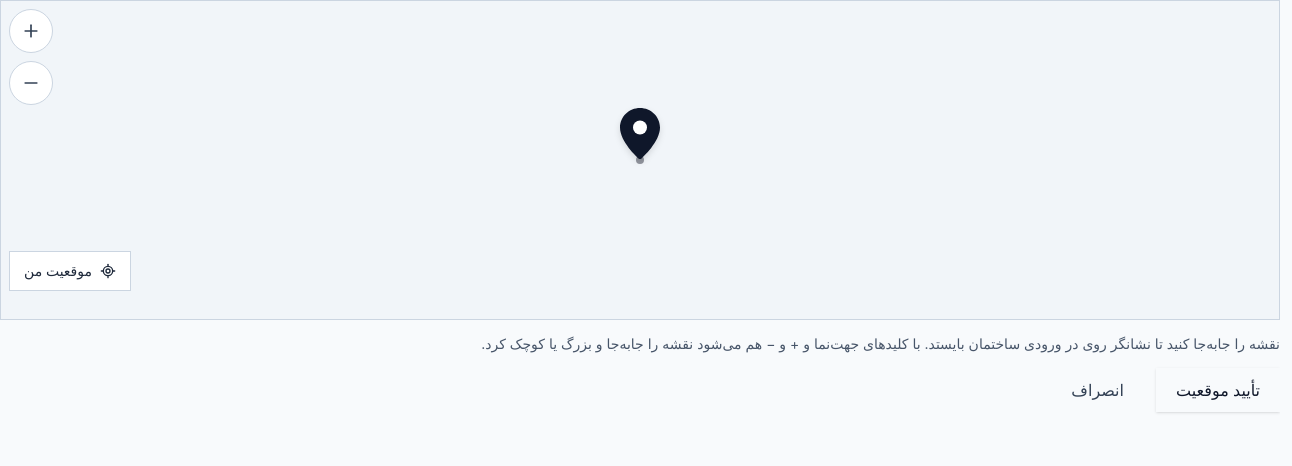
MapPicker › «موقعیت من» refused: a polite sentence, the map stays usable
Click the button "موقعیت من". click: click(70, 271)
box: [9,251,131,291]
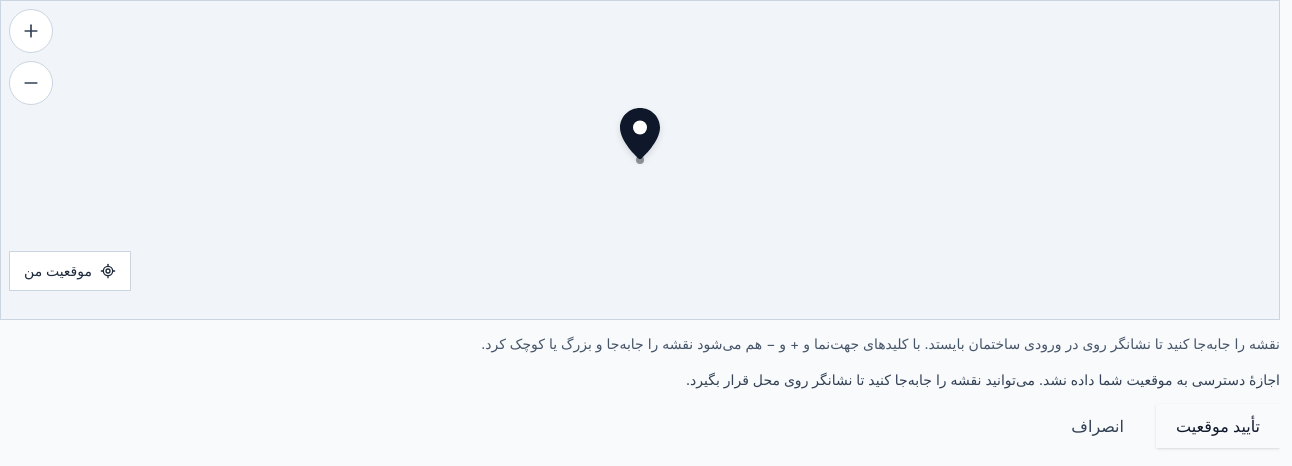
Check: the button "تأیید موقعیت" is enabled, box [1156,404,1280,448]
Check: the message shows "اجازهٔ دسترسی به موقعیت شما داده نشد. می‌توانید نقشه را جابه‌جا کنید تا نشانگر روی محل قرار بگیرد.", box [686,371,1280,388]
